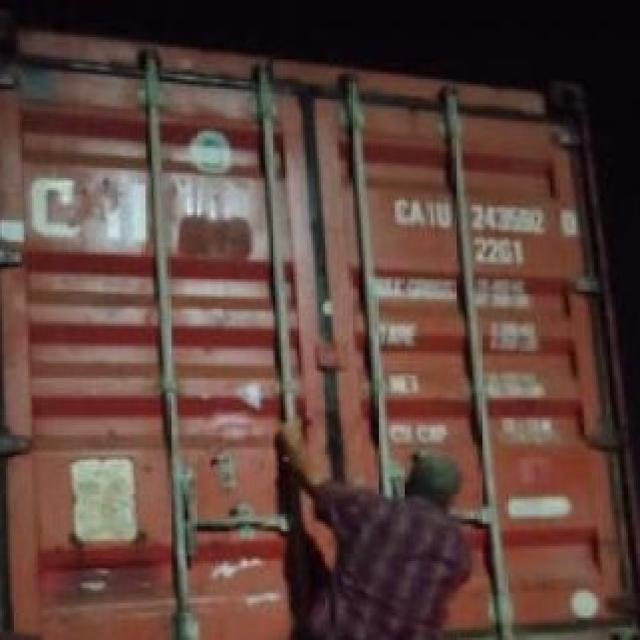ISO: (472, 238, 536, 266)
container_number: (396, 202, 575, 238)
